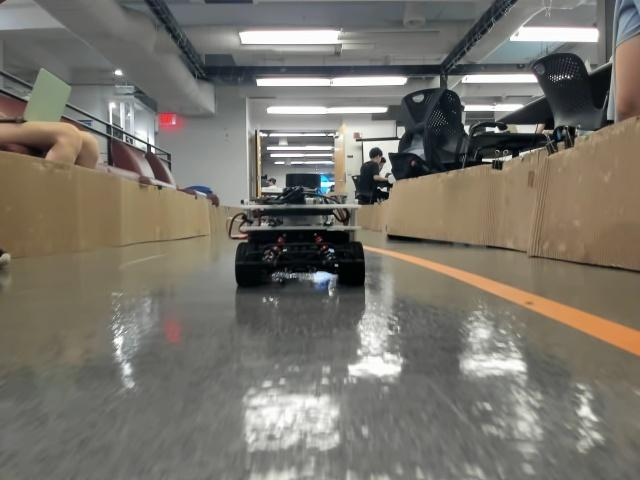Car: (233, 173, 364, 288)
